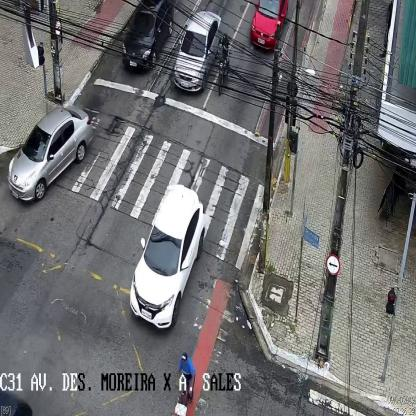bicycle: (173, 352, 196, 415)
car: (130, 184, 204, 328), (7, 106, 92, 201), (122, 0, 177, 79), (174, 9, 220, 94)
motorbike: (218, 31, 230, 92)
